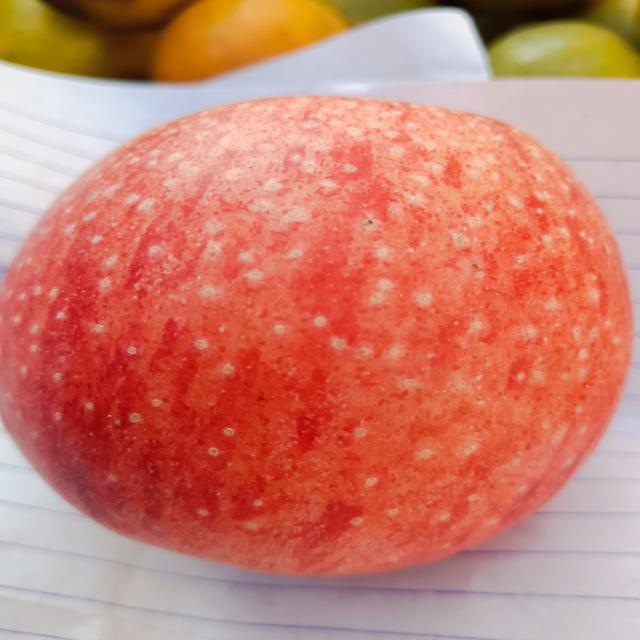Fresh Apple: (15, 103, 633, 580)
